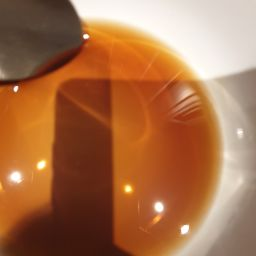Balsamic vinegar: (53, 17, 228, 246), (2, 67, 210, 256), (6, 88, 201, 238), (9, 25, 158, 204), (71, 90, 218, 249)
